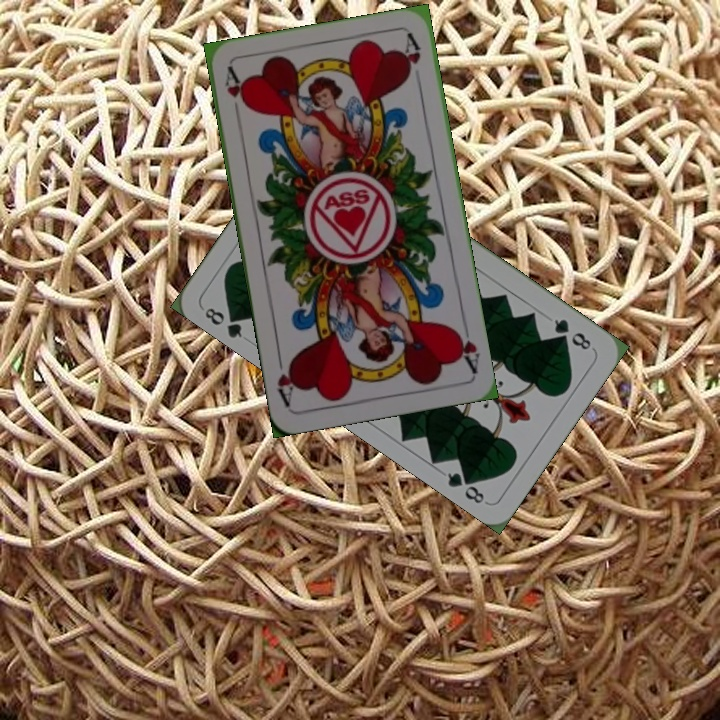G8: (200, 303, 247, 341), (550, 315, 594, 353)
HA: (450, 317, 482, 376), (220, 64, 249, 123)
